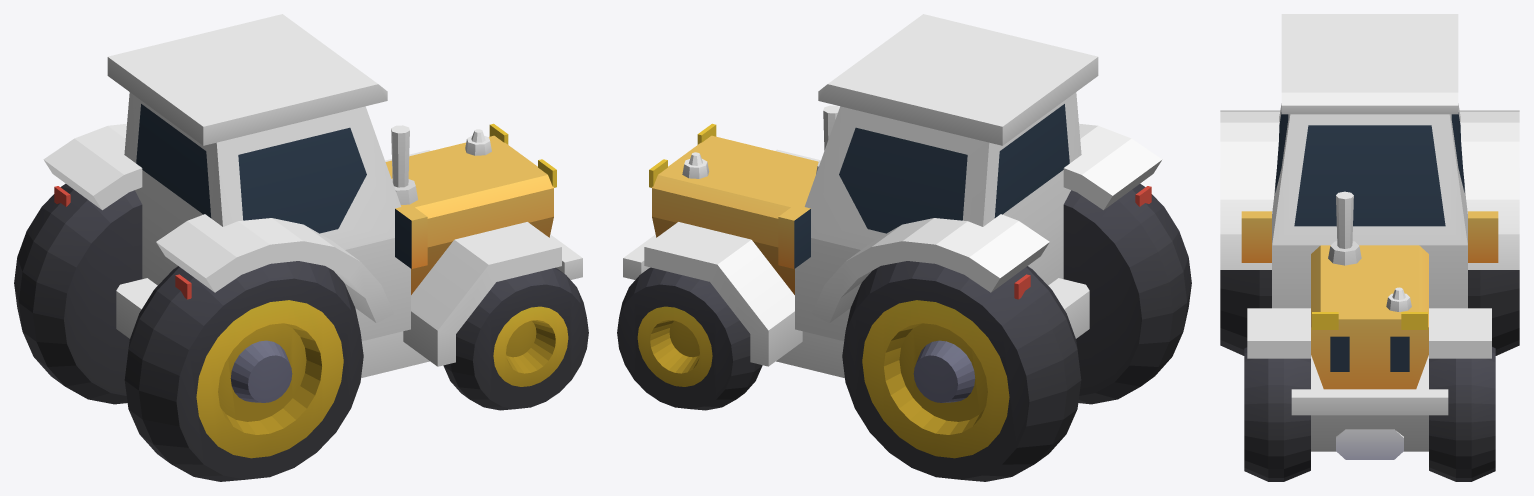
File: tractor.glb
3 views of the same model, side by side, from view 1: azimuth 30°, elevation 25°; view 2: azimuth 150°, elevation 25°; view 3: azimuth 270°, elevation 25° (orthographic). The views are drawn at different scales.
Parts seen in each view (by area): view 1: body, wheel-back-right, wheel-back-left, wheel-front-right; view 2: body, wheel-back-left, wheel-back-right, wheel-front-left; view 3: body, wheel-front-left, wheel-front-right, wheel-back-right, wheel-back-left.
Boxes of the visible parts, box(x1,y1,x2,y2) form: body: box(43, 14, 582, 378); wheel-back-right: box(124, 261, 363, 481); wheel-back-left: box(14, 183, 142, 404); wheel-front-right: box(443, 267, 588, 410); body: box(623, 14, 1162, 378); wheel-back-left: box(842, 261, 1081, 481); wheel-back-right: box(1063, 183, 1191, 404); wheel-front-left: box(617, 267, 762, 410); body: box(1220, 14, 1519, 459); wheel-front-left: box(1429, 346, 1495, 481); wheel-front-right: box(1244, 347, 1310, 481); wheel-back-right: box(1220, 270, 1271, 355); wheel-back-left: box(1468, 270, 1519, 355).
Bounding box in the file's own units: 2.2 × 1.6 × 1.34.
